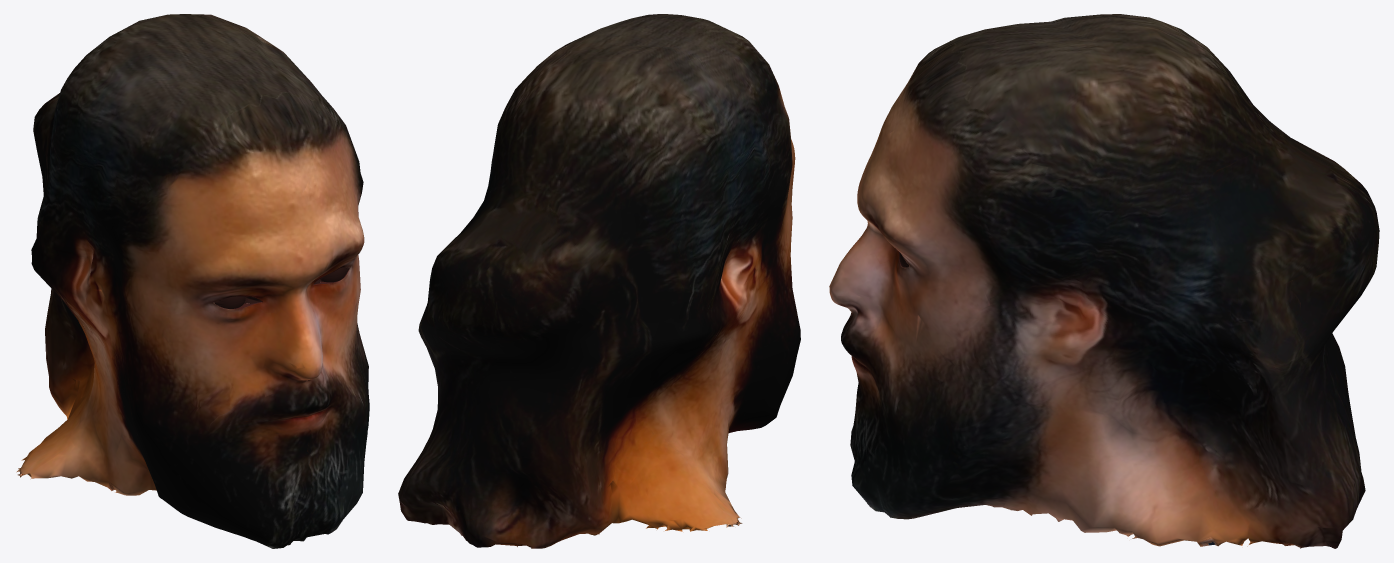
The model's file is busto-s13.glb.
3 renders of one model, left to right at view 1: azimuth 30°, elevation 25°; view 2: azimuth 150°, elevation 25°; view 3: azimuth 270°, elevation 25°, orthographic. The views are drawn at different scales.
Visible parts, largest first — view 1: Busto_malha; view 2: Busto_malha; view 3: Busto_malha.
Part boxes in pixels (bbox=[...]): Busto_malha: bbox=[16, 14, 369, 548]; Busto_malha: bbox=[398, 14, 800, 548]; Busto_malha: bbox=[829, 14, 1379, 548].
Bounding box in the file's own units: 0.2133 × 0.3193 × 0.3445.
Materials: 6 (2 with a texture image).
